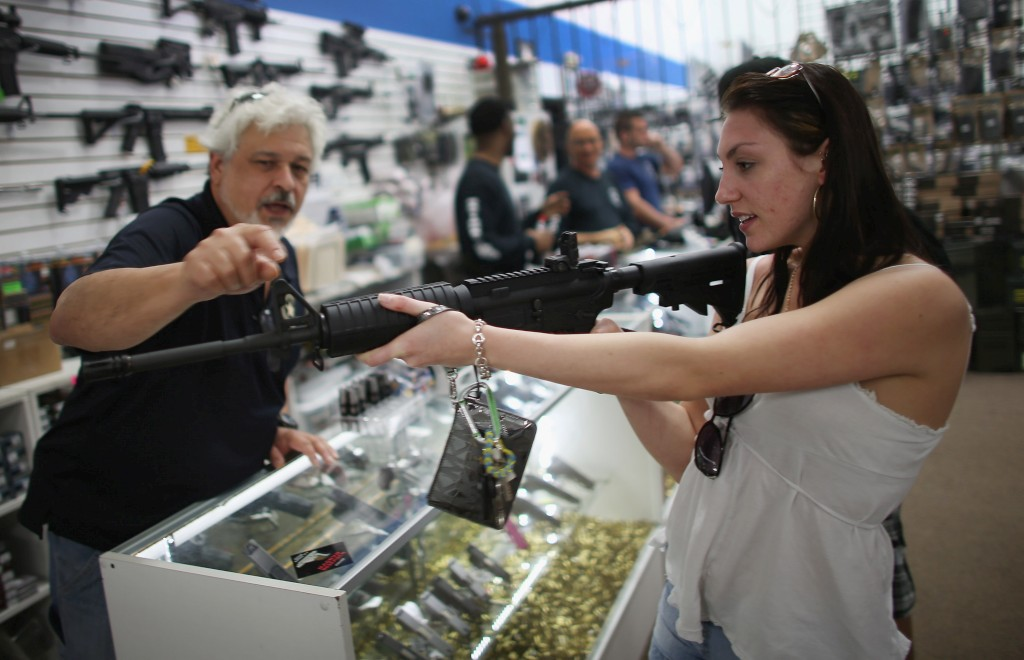Arma Real: (75, 228, 747, 328), (22, 97, 217, 153), (54, 158, 202, 217)
